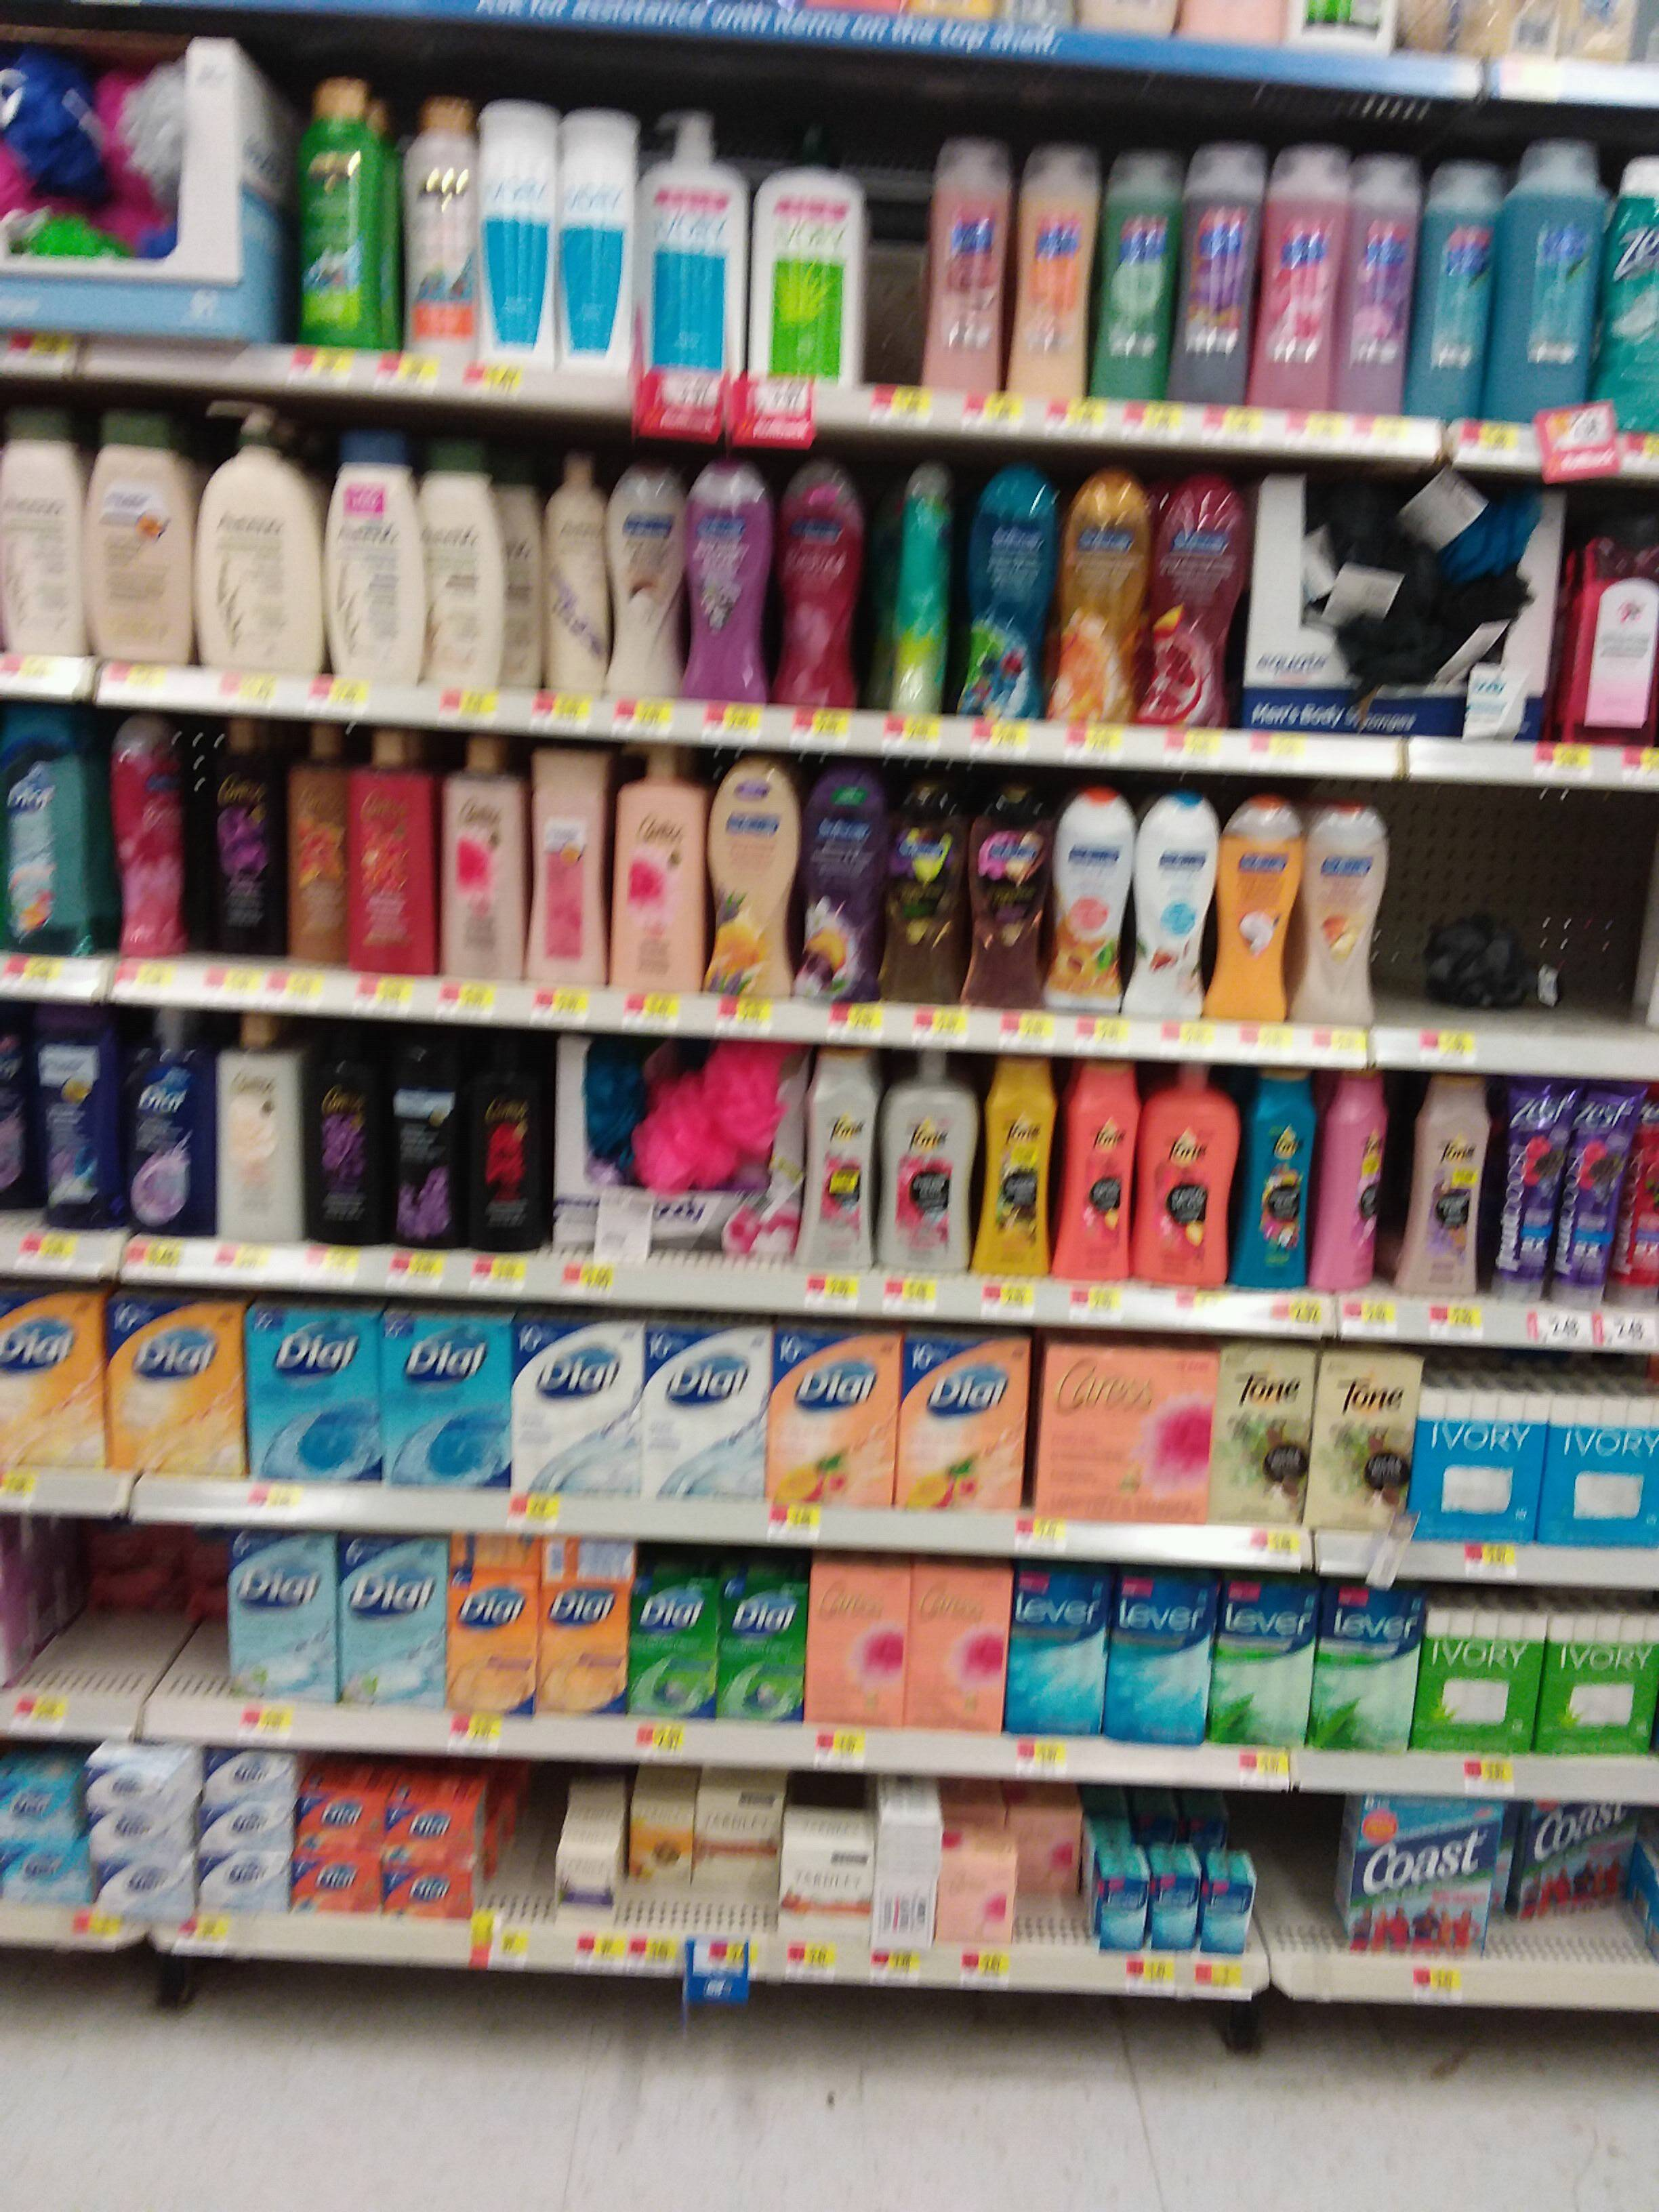product: (192, 397, 317, 676), (1495, 136, 1600, 418), (1046, 1352, 1211, 1522), (648, 108, 746, 383), (286, 78, 383, 348), (760, 122, 864, 373), (321, 430, 422, 679), (7, 702, 106, 951), (251, 1301, 383, 1487), (1154, 474, 1249, 725), (1556, 509, 1659, 742), (112, 1296, 239, 1480), (610, 737, 702, 989), (897, 1338, 1030, 1512), (98, 409, 186, 665), (708, 749, 798, 996), (1412, 1388, 1546, 1554), (1140, 1066, 1241, 1285), (355, 711, 439, 975), (1060, 469, 1148, 718), (1347, 1801, 1495, 1947), (516, 1325, 640, 1498), (484, 99, 561, 376), (927, 134, 1007, 397), (965, 477, 1053, 714), (645, 1329, 760, 1501), (7, 413, 89, 655), (390, 1313, 504, 1487), (1262, 148, 1337, 411), (1019, 152, 1100, 394), (223, 1007, 303, 1247), (690, 463, 772, 697), (1108, 153, 1183, 408), (338, 1531, 446, 1707), (446, 733, 525, 975), (129, 1008, 216, 1226), (784, 453, 861, 700), (774, 1334, 889, 1498), (1408, 1069, 1492, 1292), (805, 768, 884, 1003), (202, 714, 279, 954), (429, 441, 505, 679), (882, 462, 955, 711), (1133, 792, 1216, 1010), (803, 1038, 880, 1275), (885, 1045, 965, 1271), (1422, 1608, 1547, 1752), (3, 1284, 99, 1470), (537, 446, 610, 690), (613, 460, 688, 697), (228, 1531, 333, 1700), (112, 712, 181, 961), (1046, 786, 1124, 1007), (1347, 148, 1412, 411), (411, 96, 477, 352), (892, 784, 965, 1010), (1310, 1353, 1405, 1529), (1216, 1338, 1304, 1526), (1326, 1059, 1396, 1292), (530, 749, 599, 982), (1225, 792, 1298, 1014), (971, 780, 1042, 1007), (471, 1021, 542, 1244), (1424, 172, 1486, 425), (1060, 1062, 1133, 1278), (387, 1035, 460, 1251), (1310, 794, 1380, 1021), (119, 61, 230, 202), (572, 106, 631, 369), (979, 1057, 1051, 1271), (1551, 1407, 1659, 1548), (906, 1573, 1004, 1728), (1112, 1588, 1215, 1735), (314, 1021, 380, 1244), (1316, 1604, 1417, 1749), (1556, 1615, 1659, 1756), (648, 1055, 755, 1191), (1249, 1069, 1316, 1285), (1220, 1592, 1310, 1749), (289, 719, 349, 958), (816, 1569, 903, 1728), (1192, 155, 1249, 394), (1007, 1583, 1100, 1731), (1518, 1803, 1635, 1919), (49, 1007, 110, 1226), (1497, 1087, 1561, 1292), (450, 1571, 530, 1717), (1344, 590, 1469, 679), (537, 1590, 622, 1714), (1567, 1097, 1617, 1299), (634, 1594, 718, 1710), (1424, 913, 1528, 1003), (721, 1594, 795, 1717), (1432, 498, 1542, 575), (84, 1521, 174, 1613), (781, 1848, 868, 1933), (3, 1019, 40, 1209), (877, 1825, 934, 1940), (28, 77, 89, 185), (1626, 1097, 1659, 1289), (1317, 482, 1384, 571), (697, 1815, 777, 1888), (582, 1045, 634, 1153), (1023, 1808, 1087, 1892), (174, 1524, 225, 1625), (94, 1858, 188, 1909), (3, 1778, 85, 1836), (383, 1872, 483, 1919), (213, 1742, 291, 1801), (945, 1879, 1019, 1940), (390, 1810, 479, 1860), (94, 1763, 192, 1808), (296, 1855, 376, 1909), (1105, 1862, 1152, 1951), (7, 1843, 82, 1898), (556, 1855, 615, 1923), (634, 1811, 687, 1888), (31, 223, 119, 268), (199, 1864, 284, 1909), (303, 1803, 383, 1850), (206, 1810, 286, 1853), (94, 1815, 185, 1853), (547, 1543, 626, 1581), (1213, 1881, 1253, 1954), (1164, 1878, 1202, 1951), (464, 1531, 538, 1568)
